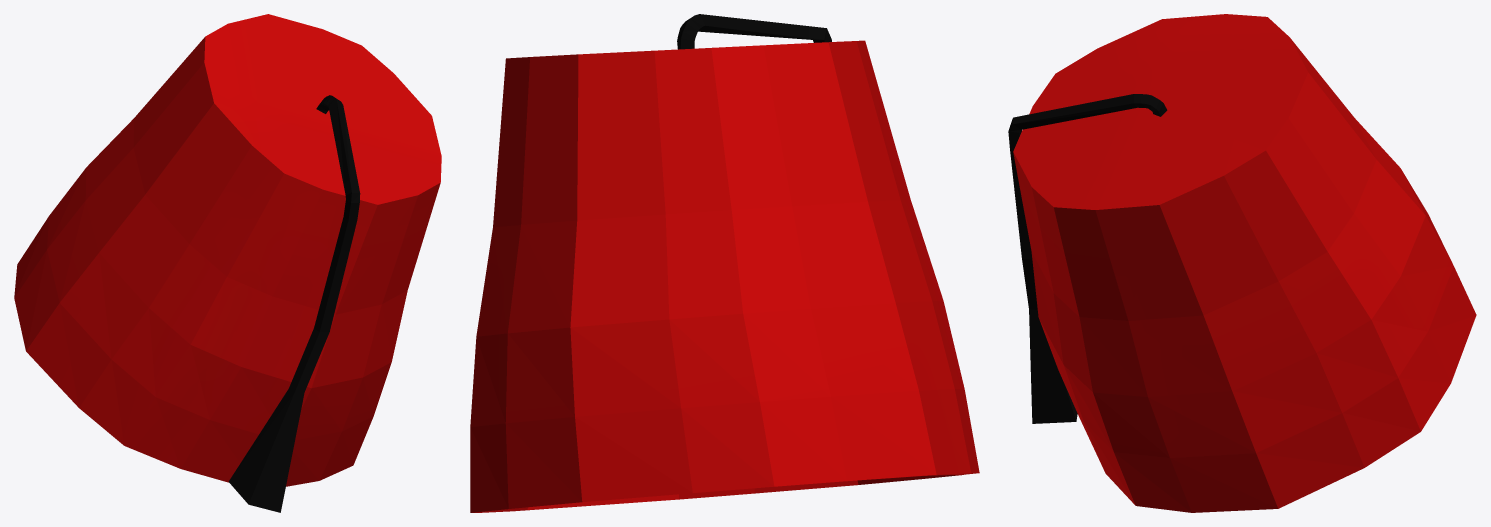
File: FEZ.fbx
3 views of the same model, side by side, from view 1: azimuth 30°, elevation 25°; view 2: azimuth 150°, elevation 25°; view 3: azimuth 270°, elevation 25° (orthographic). The views are drawn at different scales.
Parts seen in each view (by area): view 1: FEZ; view 2: FEZ; view 3: FEZ.
Boxes of the visible parts, x1,y1,x2,y2 form: FEZ: (14,14,441,512); FEZ: (470,14,979,512); FEZ: (1008,14,1476,512).
Bounding box in the file's own units: 16.17 × 17.84 × 17.11.
